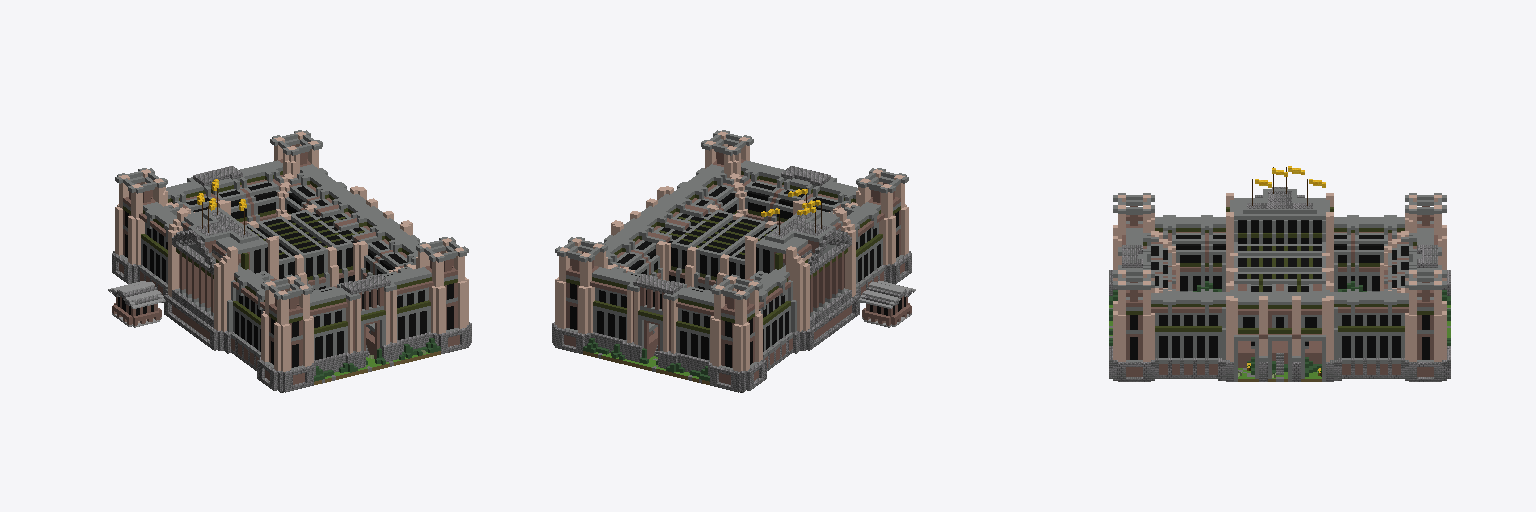
3 renders of one model, left to right at view 1: azimuth 30°, elevation 25°; view 2: azimuth 150°, elevation 25°; view 3: azimuth 270°, elevation 25°, orthographic.
Bounding box in the file's own units: 75 × 34 × 82.
29 materials, 6 textured.